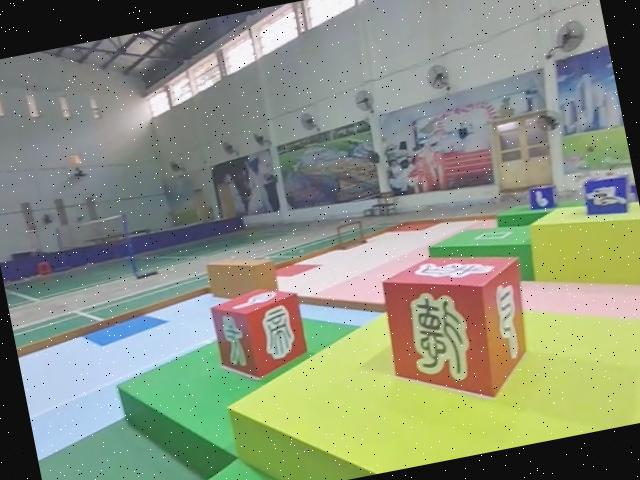R2 Fake: (373, 241, 544, 416), (206, 280, 309, 385)
